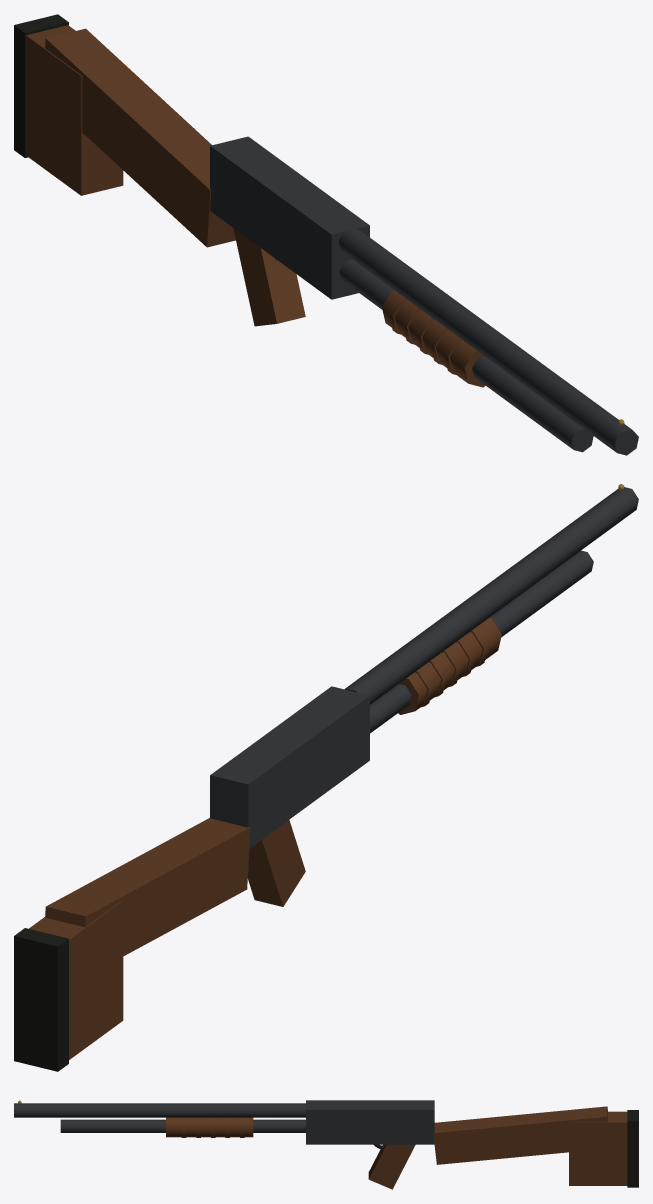
The model's file is shotgun_lod.glb.
The picture shows the model from 3 angles, top to bottom: view 1: azimuth 30°, elevation 25°; view 2: azimuth 150°, elevation 25°; view 3: azimuth 270°, elevation 25°; orthographic projection. The views are drawn at different scales.
Visible parts, largest first — view 1: ShotgunMesh; view 2: ShotgunMesh; view 3: ShotgunMesh.
Part boxes in pixels (x1=…): ShotgunMesh: x1=14, y1=14, x2=638, y2=455; ShotgunMesh: x1=14, y1=484, x2=638, y2=1071; ShotgunMesh: x1=14, y1=1100, x2=638, y2=1189.
Bounding box in the file's own units: 0.046 × 0.1611 × 1.07.
